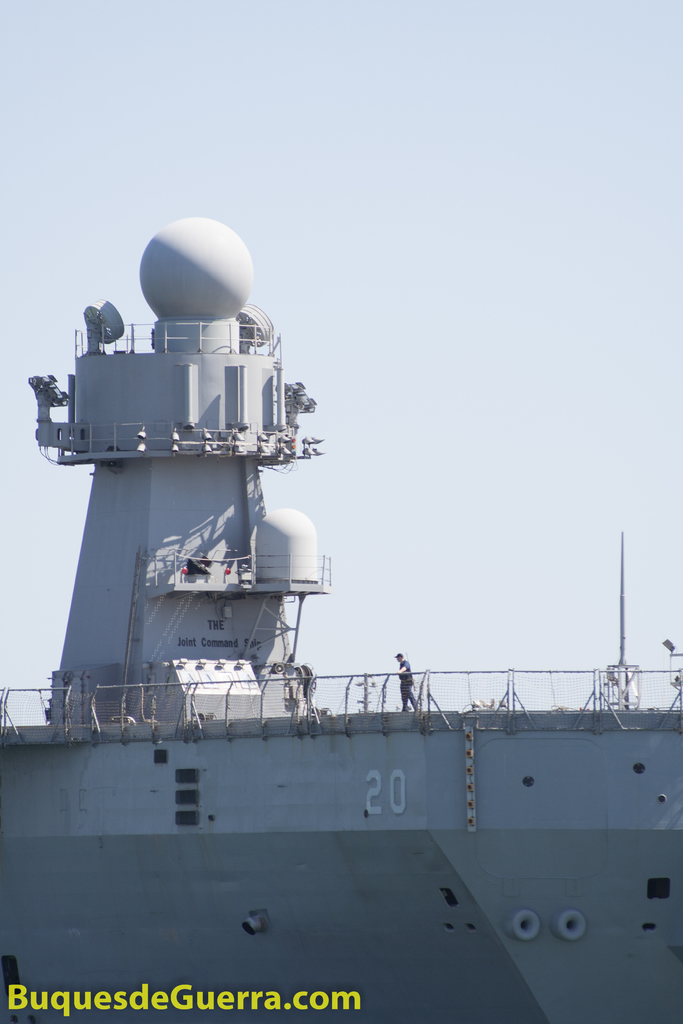boat: (10, 207, 683, 1024)
